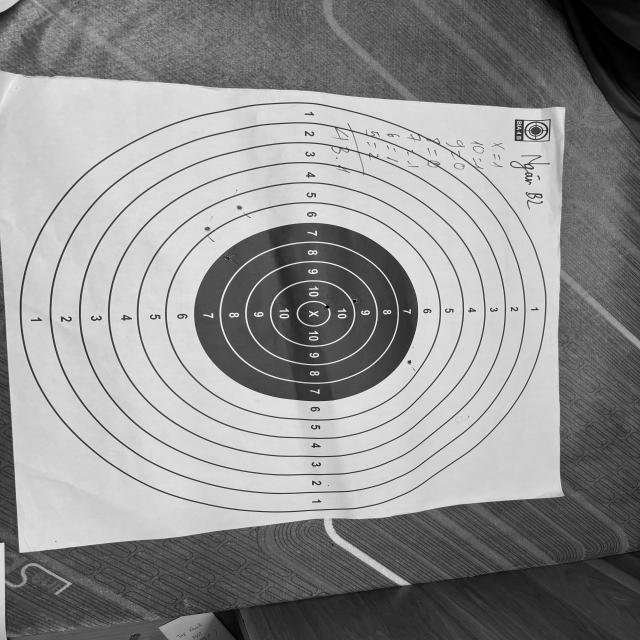bullet: (204, 228, 212, 239), (224, 256, 232, 263), (352, 296, 356, 304), (404, 360, 412, 364), (236, 205, 242, 210), (325, 304, 329, 309)
target: (4, 88, 564, 532)
